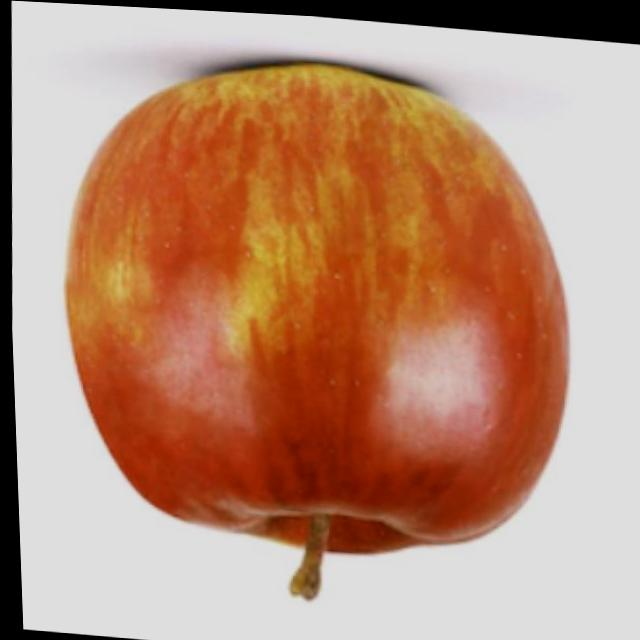Apple: (44, 39, 586, 620)
